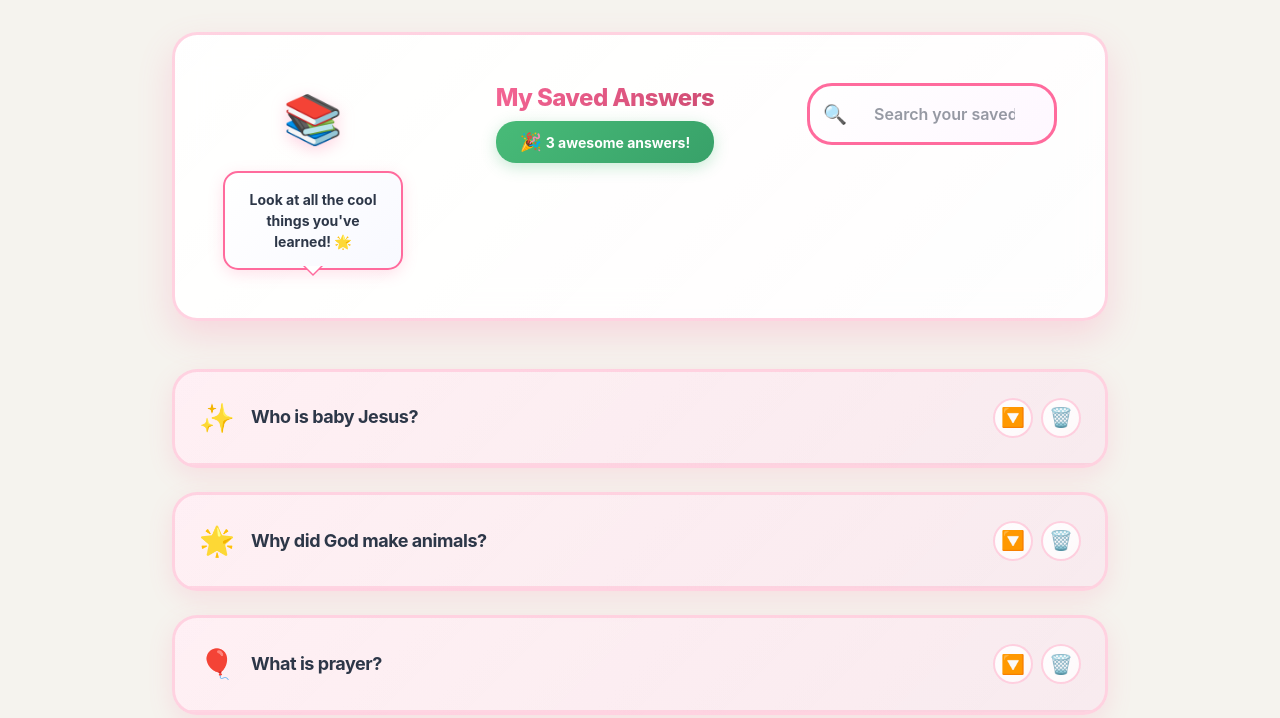
it: KidsSavedAnswers › expands an answer card when expand button is clicked
Click the button with class "kids-expand-button" in the row of "Who is baby Jesus?" at (1013, 418), box [993,398,1033,438]
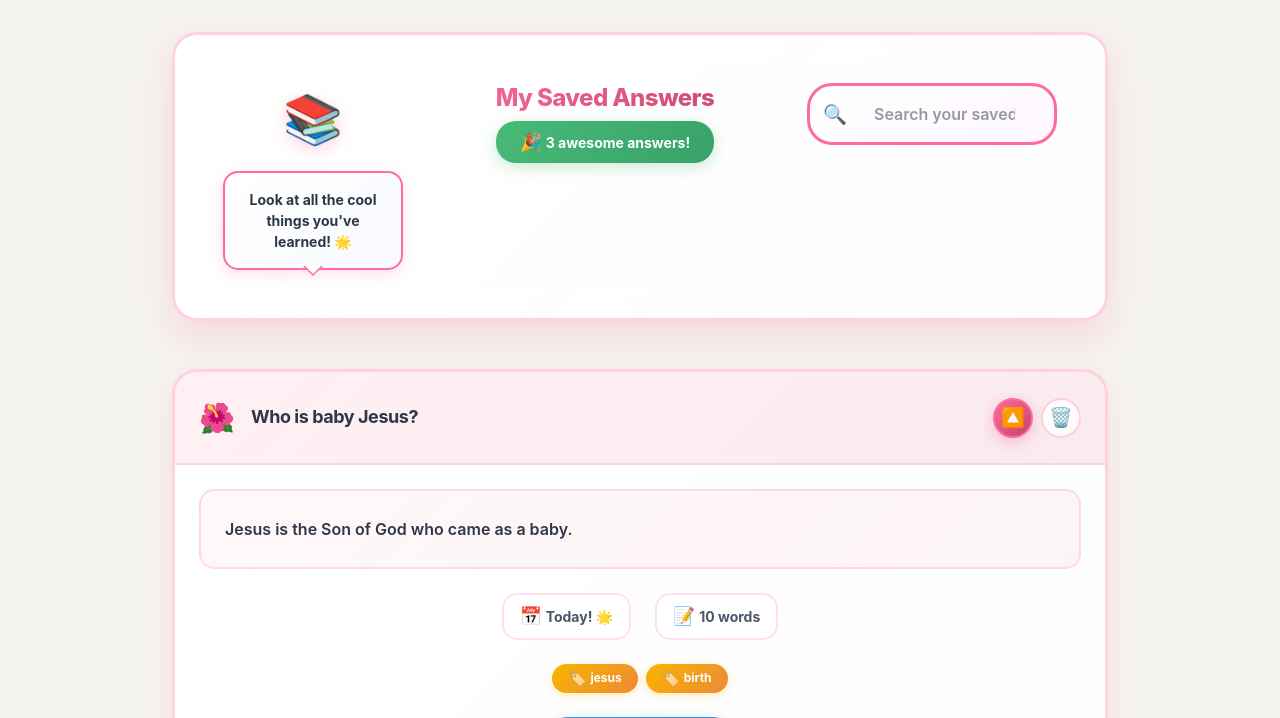
Expected: the text with class "answer-text" shows "Jesus is the Son of God", [225,519,572,539]
